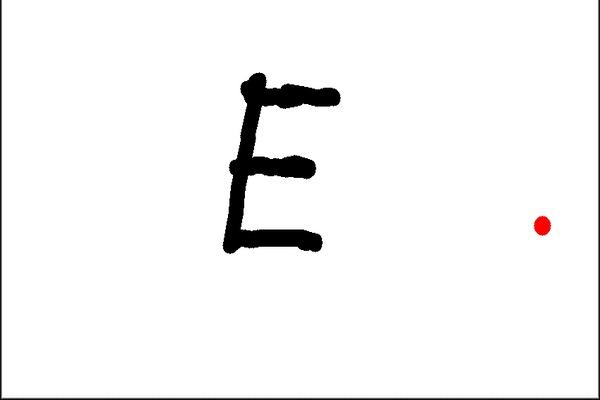E: (219, 67, 346, 259)
